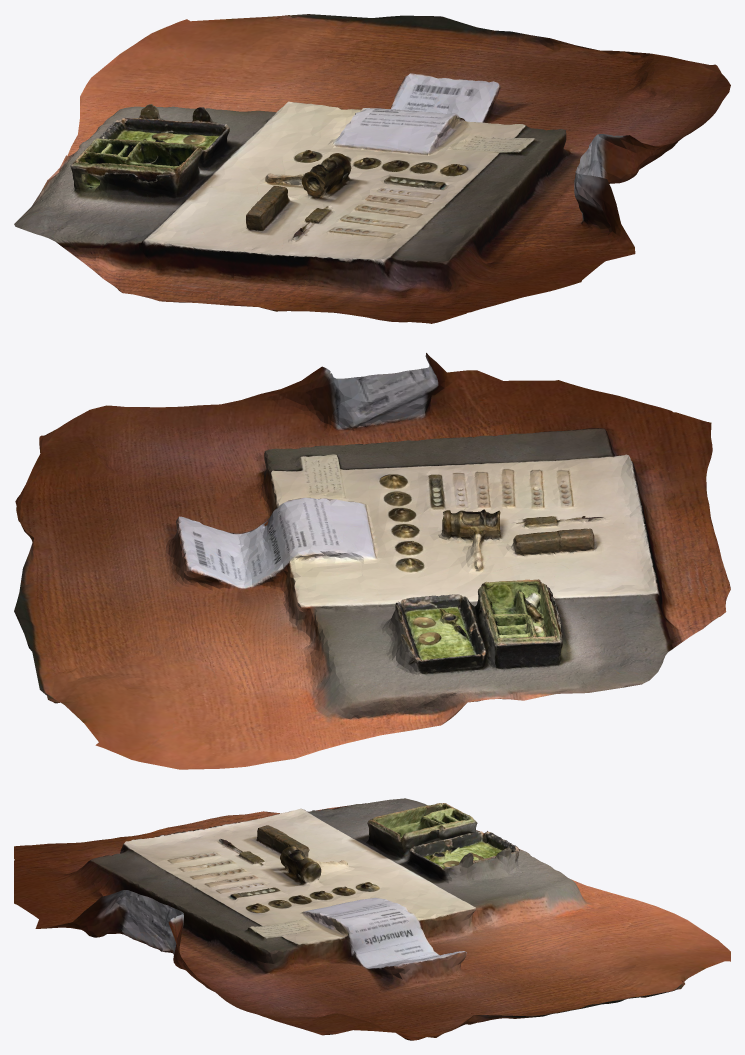
File: scan02.glb
3 renders of one model, top to bottom at view 1: azimuth 30°, elevation 25°; view 2: azimuth 150°, elevation 25°; view 3: azimuth 270°, elevation 25°, orthographic. The views are drawn at different scales.
Bounding box in the file's own units: 1.77 × 0.2911 × 2.
Materials: 1 (1 with a texture image).
